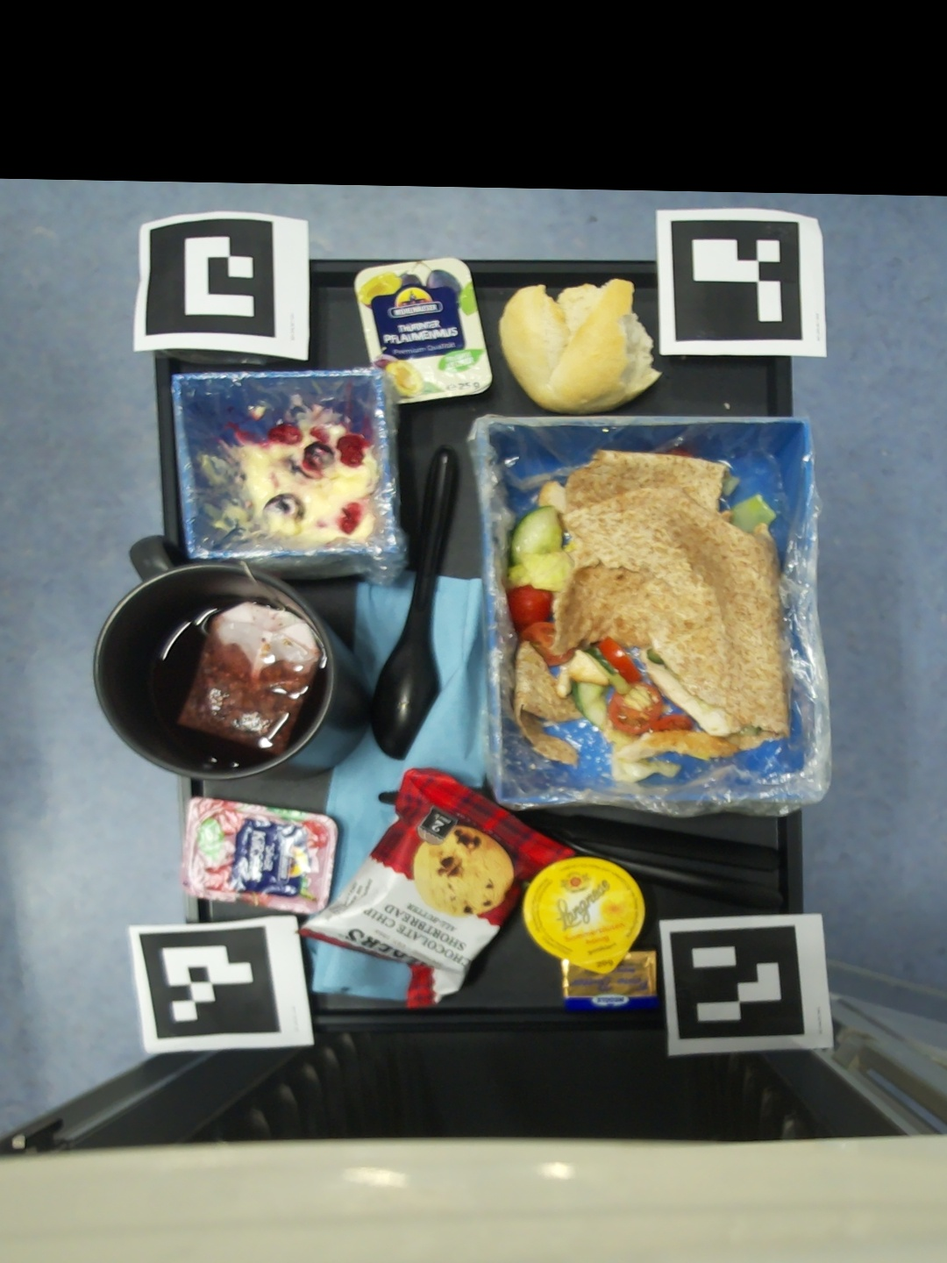bread_roll: (501, 279, 662, 415)
butter: (561, 951, 658, 1011)
cherry_jam: (182, 798, 338, 914)
cookie: (295, 768, 574, 1007)
honey: (522, 857, 645, 973)
plum_jam: (354, 256, 493, 403)
tea_cup: (93, 535, 371, 780)
vanilla_pudding_with_fruits: (227, 413, 380, 555)
wrap_half_1: (515, 623, 644, 767)
wrap_half_2: (506, 448, 789, 782)
